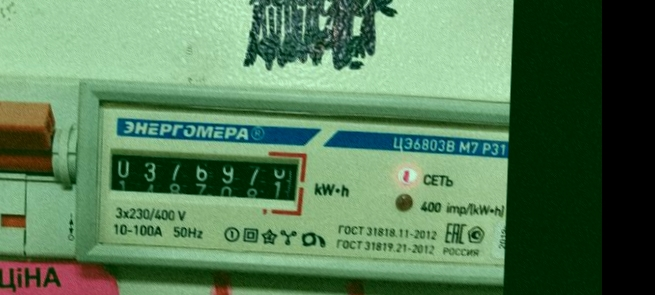0: (114, 156, 129, 178)
1: (270, 179, 282, 200)
3: (142, 161, 157, 182)
6: (193, 158, 209, 182)
7: (167, 159, 183, 183), (245, 163, 261, 187)
9: (219, 161, 234, 184)
screen: (99, 135, 310, 219)
